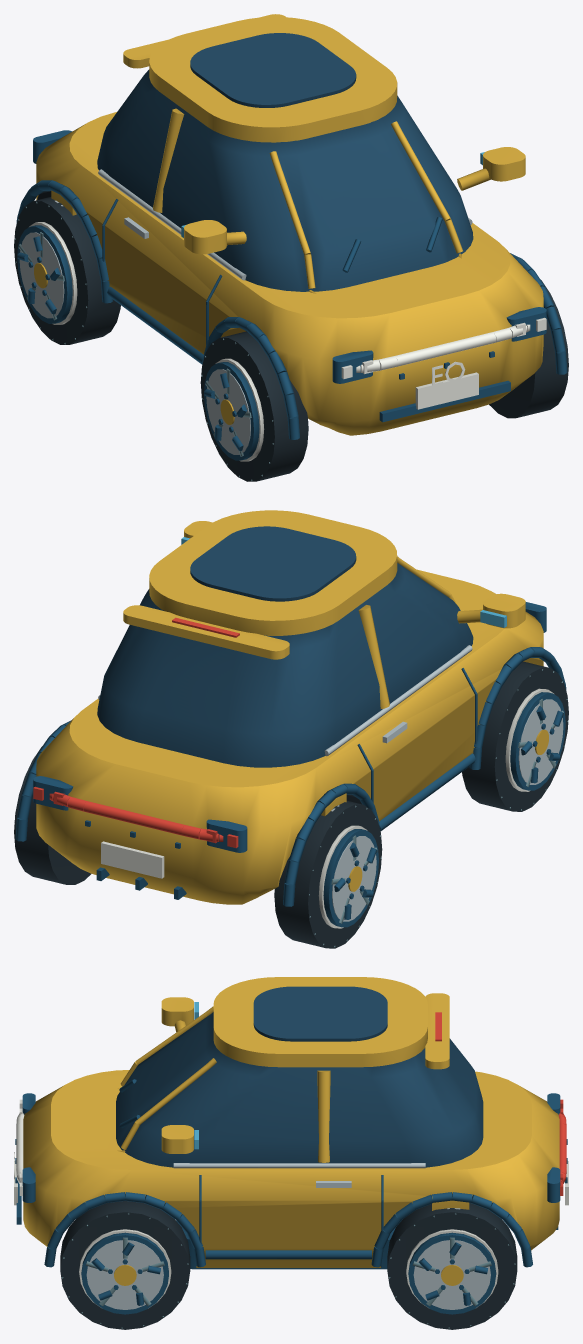
The model's file is car-gold.glb.
3 views of the same model, one above another, from view 1: azimuth 30°, elevation 25°; view 2: azimuth 150°, elevation 25°; view 3: azimuth 270°, elevation 25° (orthographic). The views are drawn at different scales.
Visible parts, largest first — view 1: sculpted electric body, sloping panoramic cabin, electric tire, battery underbody, aero wheel cover, flush door handle, aero spoke; view 2: sculpted electric body, sloping panoramic cabin, electric tire, battery underbody, flush door handle, aero wheel cover, conforming LED ribbon.012, aero spoke; view 3: sculpted electric body, sloping panoramic cabin, electric tire, battery underbody, flush door handle, aero wheel cover, aero spoke, conforming LED ribbon.012.
Boxes of the visible parts, x1,y1,x2,y2 form: sculpted electric body: [34, 14, 543, 435]; sloping panoramic cabin: [97, 33, 473, 291]; electric tire: [14, 197, 568, 481]; battery underbody: [16, 130, 567, 460]; aero wheel cover: [29, 222, 546, 461]; flush door handle: [19, 169, 472, 454]; aero spoke: [15, 201, 273, 480]; sculpted electric body: [36, 510, 548, 904]; sloping panoramic cabin: [97, 526, 473, 767]; electric tire: [14, 661, 568, 948]; battery underbody: [15, 602, 566, 927]; flush door handle: [98, 645, 563, 921]; aero wheel cover: [101, 688, 553, 928]; conforming LED ribbon.012: [33, 617, 239, 848]; aero spoke: [309, 669, 568, 947]; sculpted electric body: [23, 977, 559, 1285]; sloping panoramic cabin: [116, 986, 483, 1167]; electric tire: [60, 1201, 517, 1329]; battery underbody: [15, 1079, 567, 1314]; flush door handle: [86, 1163, 490, 1309]; aero wheel cover: [14, 1099, 568, 1308]; aero spoke: [62, 1213, 515, 1328]; conforming LED ribbon.012: [435, 1012, 566, 1195].
Size of the model in its own units: 1.03 by 0.864 by 1.71.
